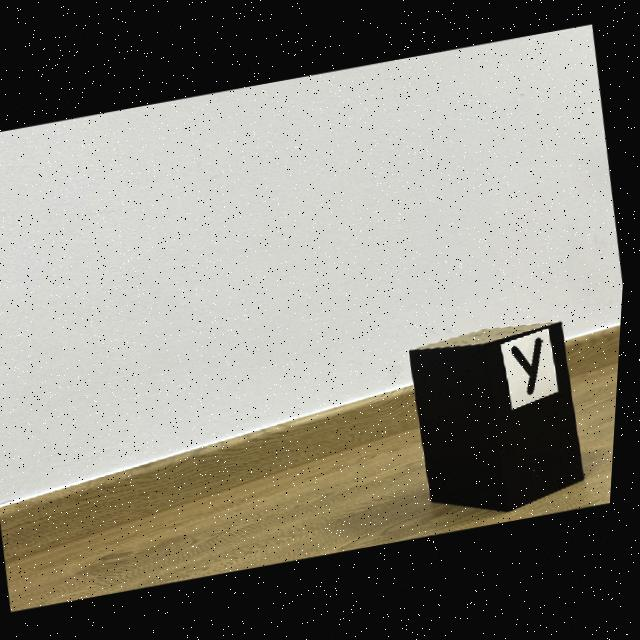Y: (516, 338, 546, 395)
